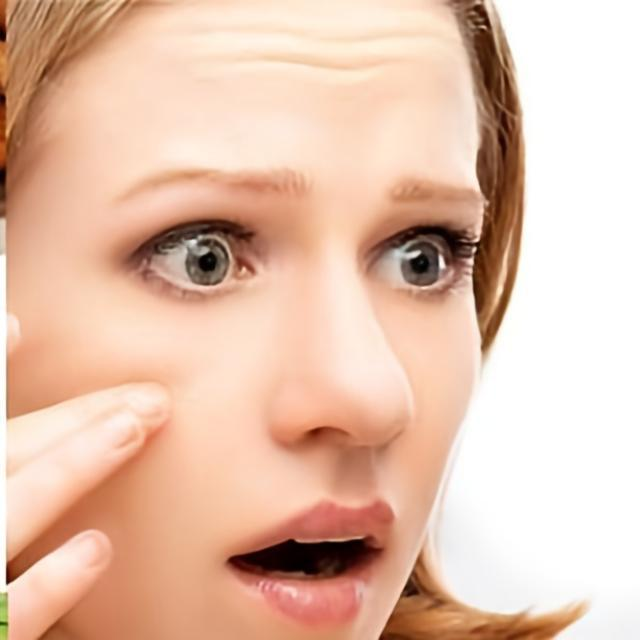fear: (6, 0, 490, 640)
